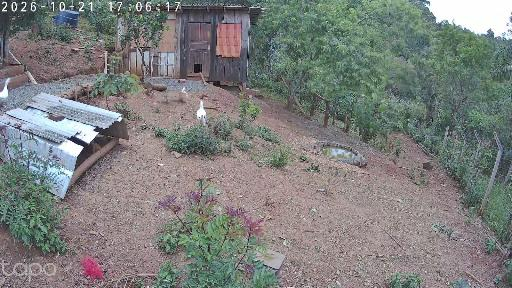galinha: (194, 100, 209, 128), (95, 38, 107, 50)
pato: (1, 75, 11, 106), (178, 87, 188, 104)
